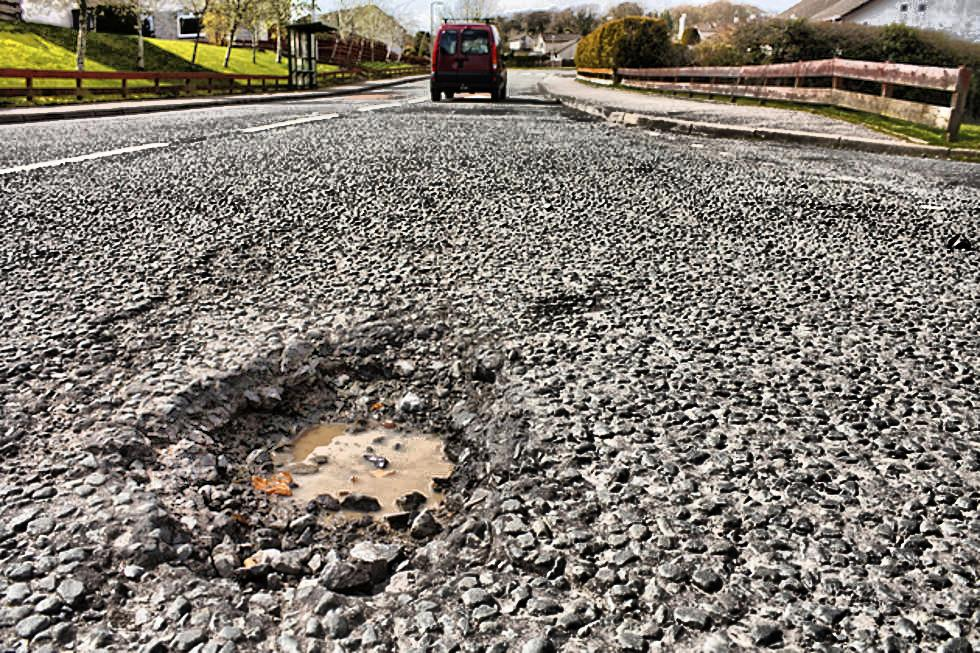pothole: (117, 331, 501, 598)
